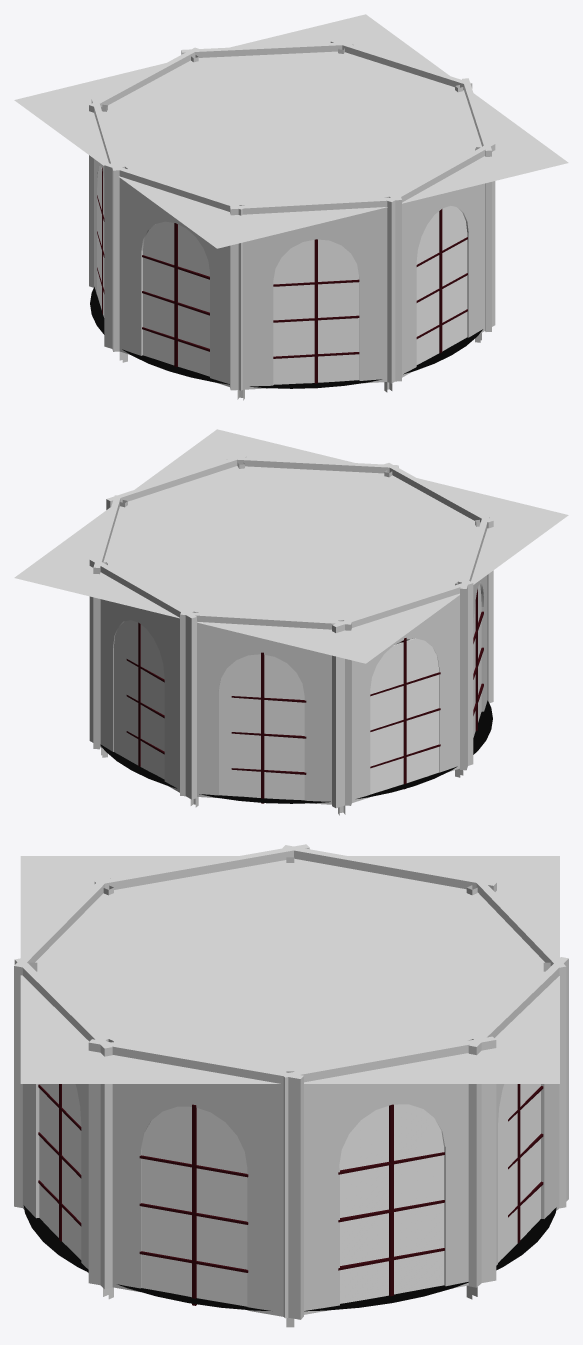
The model's file is stage1.fbx.
3 views of the same model, one above another, from view 1: azimuth 30°, elevation 25°; view 2: azimuth 150°, elevation 25°; view 3: azimuth 270°, elevation 25° (orthographic). The views are drawn at different scales.
Parts seen in each view (by area): view 1: pPlane1, polySurface15, polySurface17, pCube15, polySurface14, pCube9, pCube14, polySurface12, pDisc1, polySurface11, polySurface13, pCube5 (×3) (+3 smaller); view 2: pPlane1, polySurface11, polySurface12, pCube13, polySurface16, pCube12, pCube8, polySurface17, pDisc1, polySurface15, polySurface10, polySurface14 (+3 smaller); view 3: pPlane1, polySurface13, polySurface10, pCube11, pCube10, polySurface14, polySurface16, pCube8, pCube14, pDisc1, polySurface15, polySurface11 (+3 smaller).
Boxes of the visible parts, <box> form: pPlane1: <box>14,14,568,248</box>; polySurface15: <box>230,197,401,390</box>; polySurface17: <box>104,163,242,390</box>; pCube15: <box>273,239,359,384</box>; polySurface14: <box>387,142,495,383</box>; pCube9: <box>143,221,209,376</box>; pCube14: <box>416,206,467,364</box>; polySurface12: <box>91,98,119,351</box>; pDisc1: <box>90,287,482,388</box>; polySurface11: <box>89,47,199,287</box>; polySurface13: <box>462,78,491,331</box>; pCube5 (×3): <box>174,209,442,388</box>; pPlane1: <box>14,429,568,663</box>; polySurface11: <box>180,612,351,805</box>; polySurface12: <box>332,581,473,808</box>; pCube13: <box>219,654,304,800</box>; polySurface16: <box>89,558,196,799</box>; pCube12: <box>370,638,438,794</box>; pCube8: <box>114,620,164,779</box>; polySurface17: <box>460,516,489,770</box>; pDisc1: <box>100,700,492,803</box>; polySurface15: <box>384,463,493,703</box>; polySurface10: <box>93,495,120,749</box>; polySurface14: <box>226,456,398,473</box>; pPlane1: <box>20,856,559,1083</box>; polySurface13: <box>88,1039,303,1319</box>; polySurface10: <box>282,1036,496,1318</box>; pCube11: <box>141,1106,247,1306</box>; pCube10: <box>339,1104,444,1303</box>; polySurface14: <box>14,958,112,1289</box>; polySurface16: <box>468,957,568,1287</box>; pCube8: <box>498,1084,540,1262</box>; pCube14: <box>39,1084,81,1259</box>; pDisc1: <box>23,1205,556,1311</box>; polySurface15: <box>14,876,110,1207</box>; polySurface11: <box>472,877,566,1208</box>.
Bounding box in the file's own units: 9.65 × 5.87 × 9.64.
